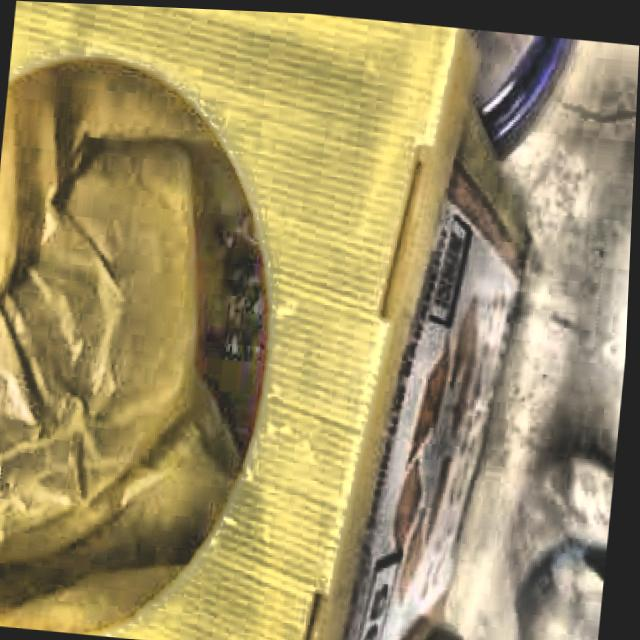plastic: (515, 457, 618, 640)
